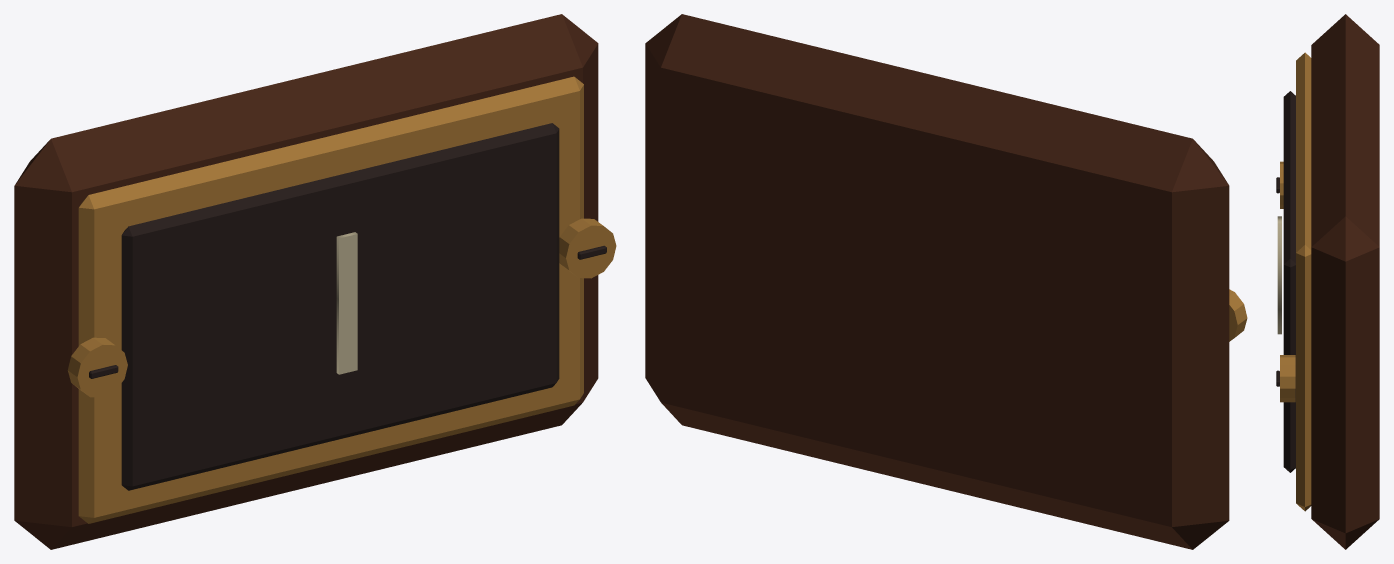
The model's file is RoomPlaque_01.glb.
The picture shows the model from 3 angles, left to right: view 1: azimuth 30°, elevation 25°; view 2: azimuth 150°, elevation 25°; view 3: azimuth 270°, elevation 25°; orthographic projection. The views are drawn at different scales.
Parts seen in each view (by area): view 1: DarkEnamel, OakPlaque, BrassInset, RoomNumber, BrassScrew.002, BrassScrew.003; view 2: OakPlaque; view 3: OakPlaque, BrassInset, DarkEnamel, BrassScrew.003, RoomNumber, BrassScrew.002.
Part boxes in pixels (x1,y1,x2,y2): DarkEnamel: (121,123,559,490); OakPlaque: (14,14,598,549); BrassInset: (78,76,583,523); RoomNumber: (336,232,357,374); BrassScrew.002: (67,337,127,397); BrassScrew.003: (559,218,616,278); OakPlaque: (645,14,1229,549); OakPlaque: (1311,14,1379,549); BrassInset: (1296,52,1311,511); DarkEnamel: (1283,91,1295,472); BrassScrew.003: (1280,355,1295,402); RoomNumber: (1277,216,1281,334); BrassScrew.002: (1280,161,1283,208).
Size of the model in its own units: 1.04 by 0.7 by 0.197.
